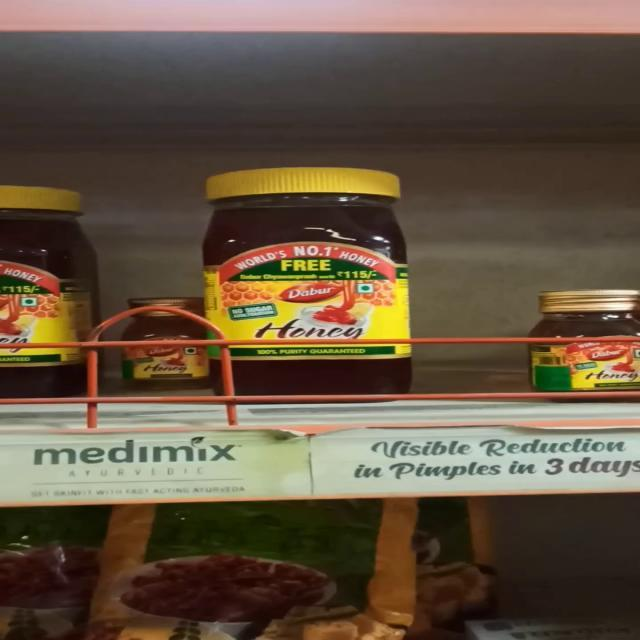Dabur Honey: (198, 164, 430, 404), (533, 283, 640, 390)
